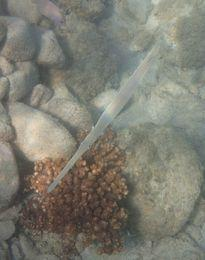Fistularia commersonii: (26, 15, 183, 223)
